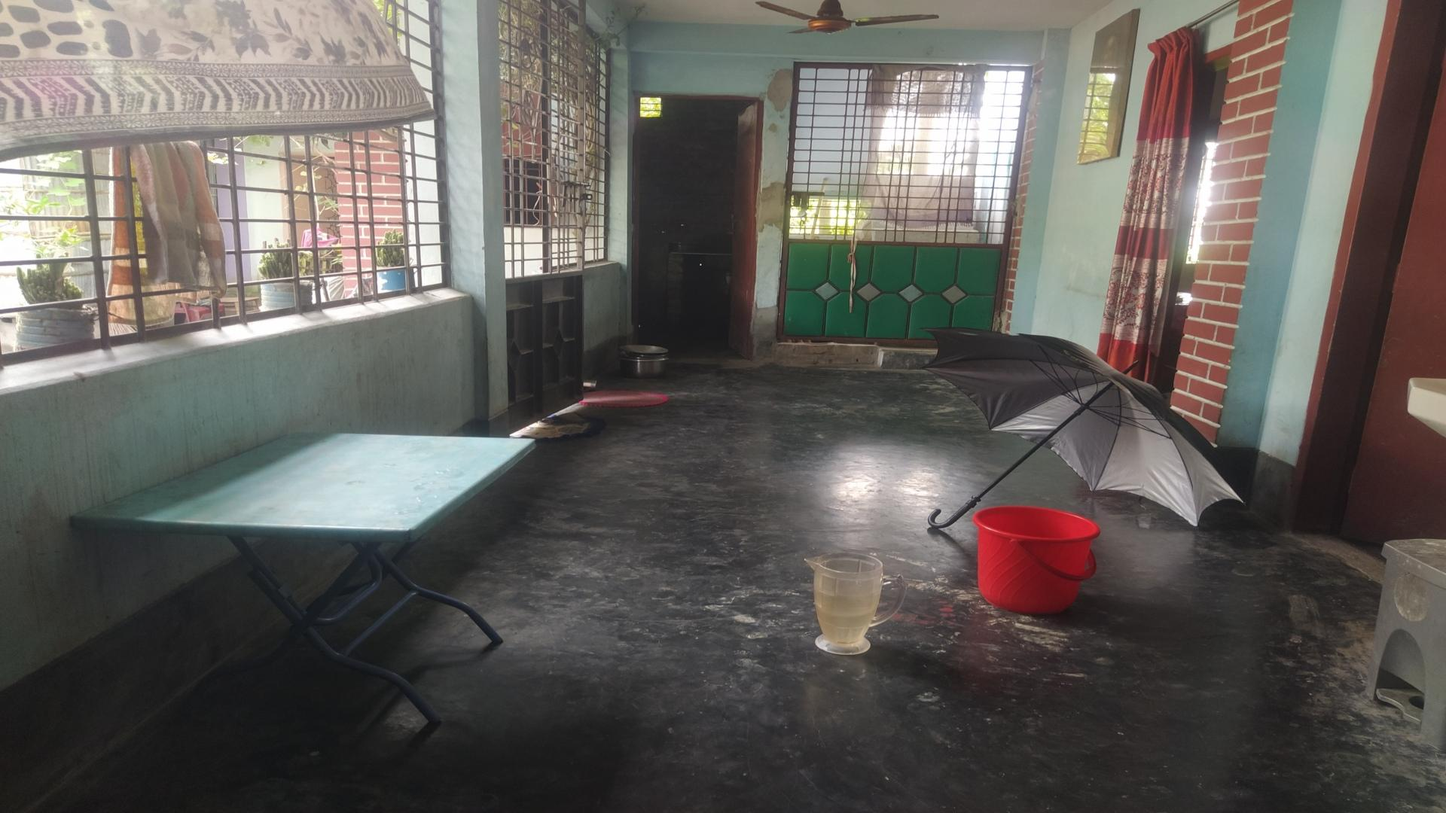Bucket: (977, 506, 1100, 615)
Door: (792, 63, 1000, 344), (628, 93, 757, 359)
Jug: (813, 556, 881, 648)
Table: (67, 435, 535, 723)
Umbrella: (922, 327, 1242, 532)
